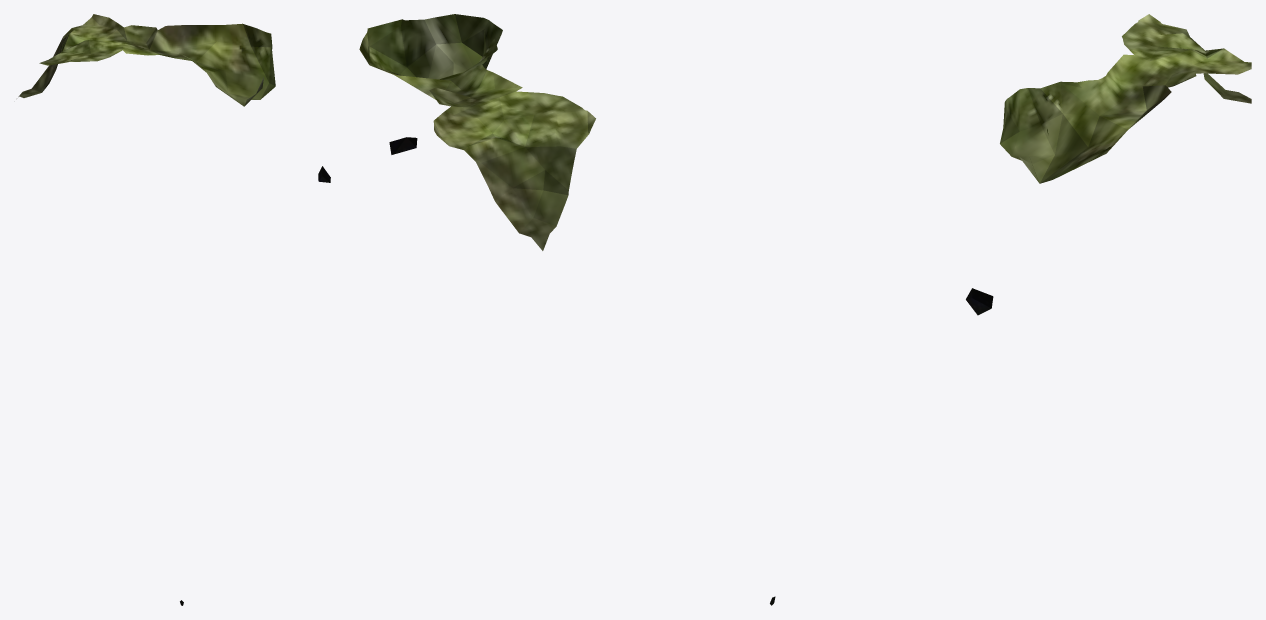
3 views of the same model, side by side, from view 1: azimuth 30°, elevation 25°; view 2: azimuth 150°, elevation 25°; view 3: azimuth 270°, elevation 25° (orthographic). The views are drawn at different scales.
Bounding box in the file's own units: 1.22 × 2.47 × 1.69.
1 material, 1 textured.
